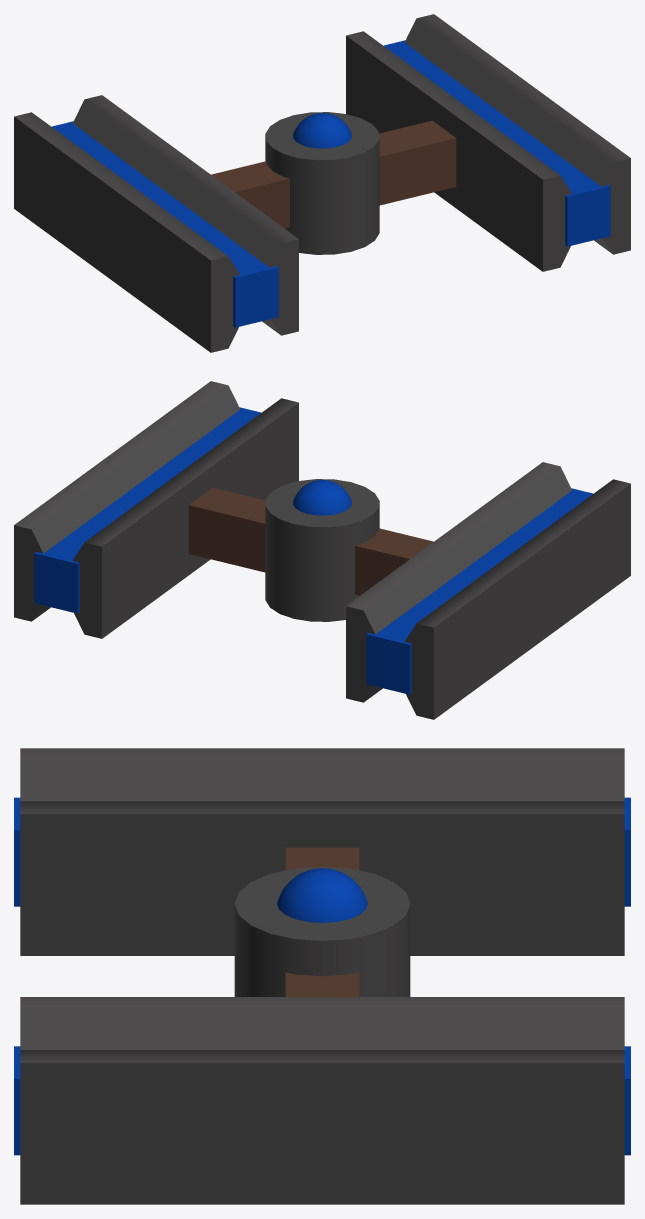
File: MineTracksBlue.fbx
The picture shows the model from 3 angles, top to bottom: view 1: azimuth 30°, elevation 25°; view 2: azimuth 150°, elevation 25°; view 3: azimuth 270°, elevation 25°; orthographic projection. The views are drawn at different scales.
Parts seen in each view (by area): view 1: MineTrack; view 2: MineTrack; view 3: MineTrack.
Part boxes in pixels (<box>): MineTrack: <box>14,14,630,352</box>; MineTrack: <box>14,381,630,719</box>; MineTrack: <box>14,748,630,1204</box>.
Size of the model in its own units: 50.62 by 15.58 by 41.95.
